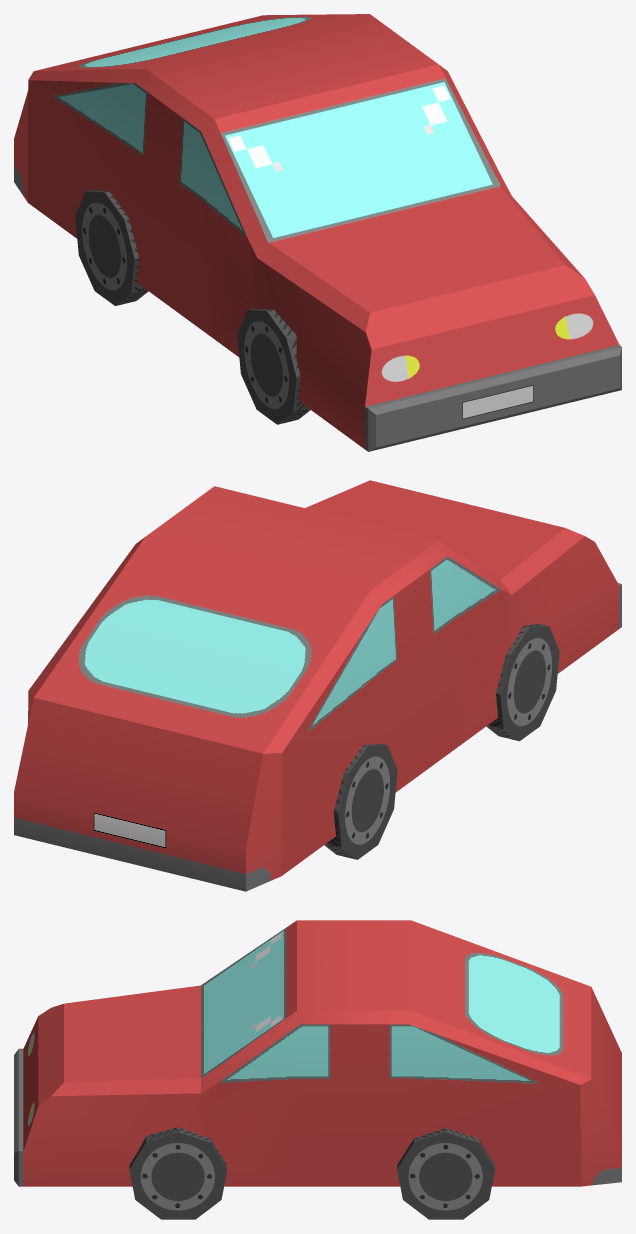
Rendered from Car.fbx.
The picture shows the model from 3 angles, top to bottom: view 1: azimuth 30°, elevation 25°; view 2: azimuth 150°, elevation 25°; view 3: azimuth 270°, elevation 25°; orthographic projection. The views are drawn at different scales.
Parts seen in each view (by area): view 1: MainBody, FrontWheel2, BackWheel2; view 2: MainBody, FrontWheel2, BackWheel2; view 3: MainBody, FrontWheel1, BackWheel1.
Part boxes in pixels (x1,y1,x2,y2): MainBody: [14, 14, 621, 451]; FrontWheel2: [237, 308, 310, 424]; BackWheel2: [75, 190, 148, 305]; MainBody: [14, 480, 621, 891]; FrontWheel2: [486, 624, 559, 741]; BackWheel2: [324, 744, 397, 859]; MainBody: [14, 920, 621, 1186]; FrontWheel1: [129, 1127, 227, 1219]; BackWheel1: [397, 1128, 495, 1219].
Bounding box in the file's own units: 4.55 × 3.89 × 10.78.
